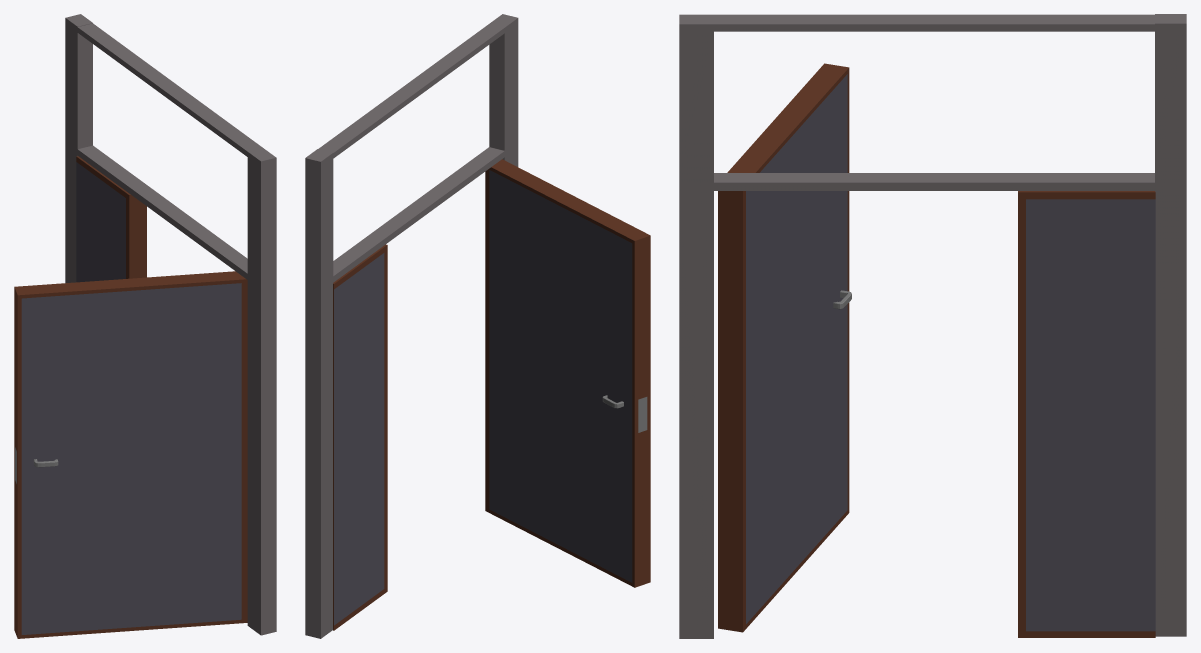
The model's file is Puerta.fbx.
3 renders of one model, left to right at view 1: azimuth 30°, elevation 25°; view 2: azimuth 150°, elevation 25°; view 3: azimuth 270°, elevation 25°, orthographic. The views are drawn at different scales.
Parts seen in each view (by area): view 1: Cube.004, Cube.002; view 2: Cube.004, Cube.002; view 3: Cube.002, Cube.004.
Boxes of the visible parts, x1,y1,x2,y2 form: Cube.004: (14, 271, 247, 638); Cube.002: (65, 14, 276, 635); Cube.004: (485, 159, 650, 587); Cube.002: (305, 14, 518, 638); Cube.002: (679, 14, 1186, 638); Cube.004: (718, 63, 851, 632).
Bounding box in the file's own units: 347 × 771 × 576.
